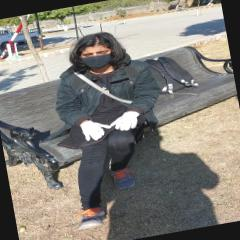gloved: (80, 116, 113, 145), (110, 110, 141, 133)
